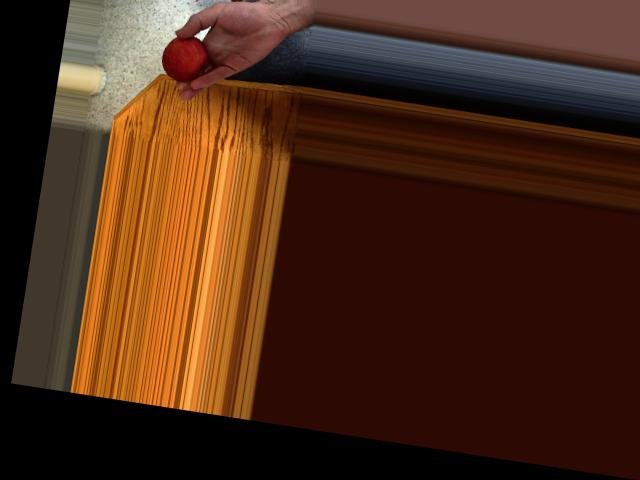apple: (157, 31, 218, 86)
